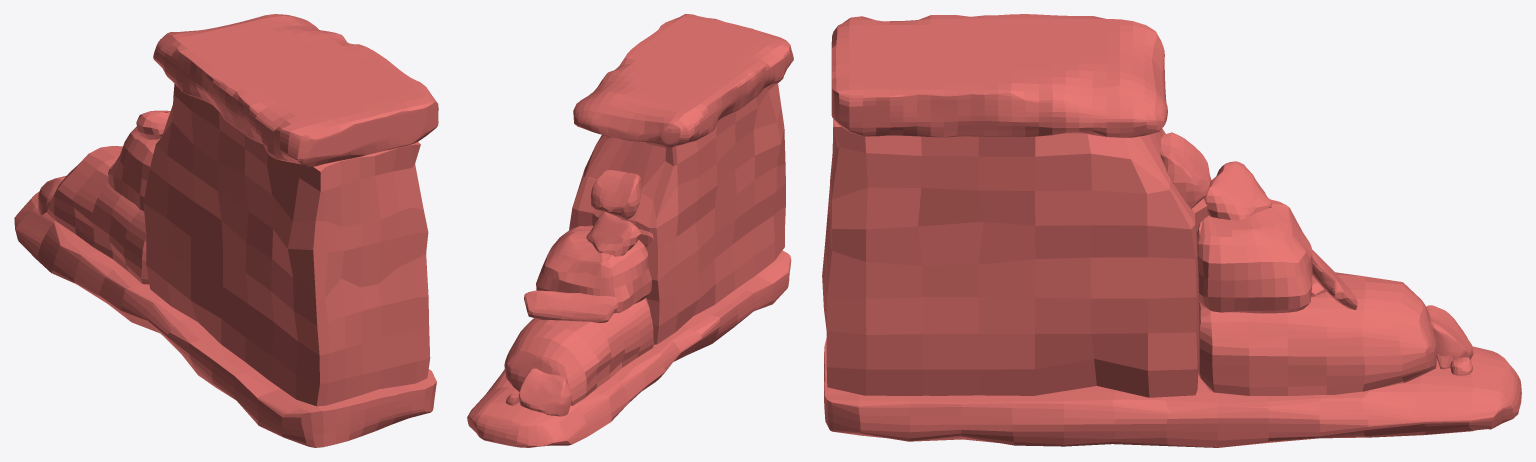
File: 2LOWstoneWallNOTFullSOBRANAYA.fbx
3 views of the same model, side by side, from view 1: azimuth 30°, elevation 25°; view 2: azimuth 150°, elevation 25°; view 3: azimuth 270°, elevation 25° (orthographic). The views are drawn at different scales.
Visible parts, largest first — view 1: Cube06_low, Cube10_low, Cube09_low, Cube03_low, Cube04_low, Cube041_low, Cube02_low; view 2: Cube06_low, Cube10_low, Cube09_low, Cube03_low, Cube04_low, Cube05_low, Cube08_low, Cube02_low, Cube041_low; view 3: Cube06_low, Cube10_low, Cube09_low, Cube03_low, Cube04_low, Cube041_low, Cube08_low, Cube02_low, Cube05_low.
Boxes of the visible parts, x1,y1,x2,y2 form: Cube06_low: [143, 83, 430, 406]; Cube10_low: [153, 14, 438, 166]; Cube09_low: [14, 191, 436, 447]; Cube03_low: [47, 146, 149, 284]; Cube04_low: [109, 127, 159, 214]; Cube041_low: [136, 110, 170, 139]; Cube02_low: [38, 175, 66, 215]; Cube06_low: [569, 83, 785, 344]; Cube10_low: [573, 14, 793, 147]; Cube09_low: [467, 250, 791, 447]; Cube03_low: [504, 297, 653, 405]; Cube04_low: [536, 225, 651, 313]; Cube05_low: [524, 290, 618, 322]; Cube08_low: [590, 170, 641, 219]; Cube02_low: [518, 368, 571, 416]; Cube041_low: [586, 211, 641, 256]; Cube06_low: [822, 119, 1208, 397]; Cube10_low: [831, 14, 1167, 137]; Cube09_low: [824, 338, 1521, 447]; Cube03_low: [1198, 272, 1437, 395]; Cube04_low: [1197, 198, 1312, 313]; Cube041_low: [1203, 161, 1271, 220]; Cube08_low: [1159, 132, 1211, 208]; Cube02_low: [1426, 305, 1473, 369]; Cube05_low: [1312, 250, 1357, 309].
Size of the model in its own units: 269 by 528 by 948.
